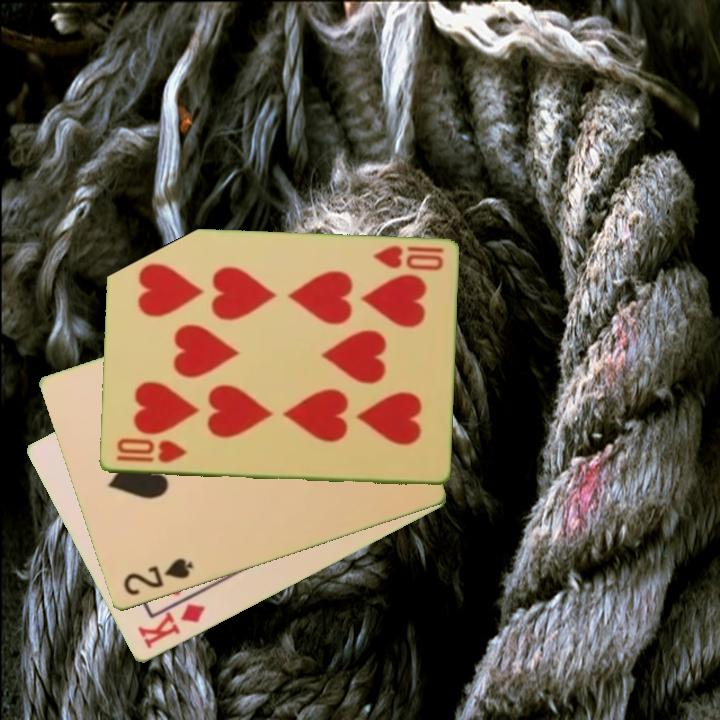10h: (113, 435, 189, 467), (369, 243, 446, 274)
2s: (119, 555, 197, 599)
Kd: (133, 600, 209, 653)
